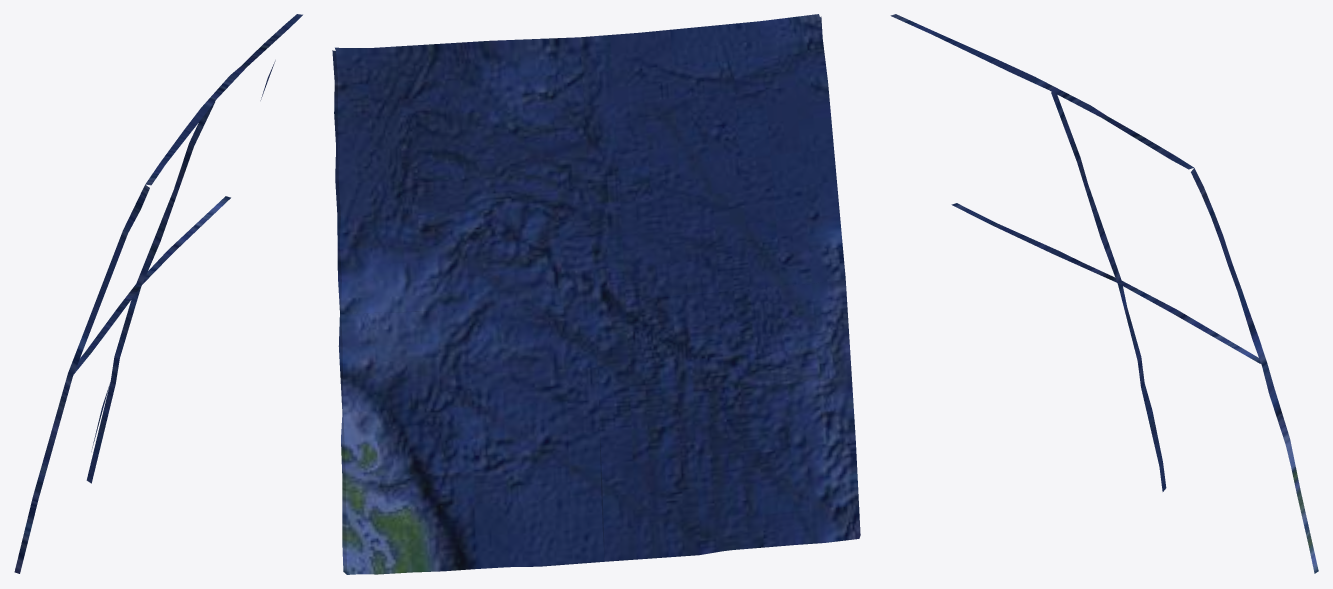
3 renders of one model, left to right at view 1: azimuth 30°, elevation 25°; view 2: azimuth 150°, elevation 25°; view 3: azimuth 270°, elevation 25°, orthographic. The views are drawn at different scales.
Bounding box in the file's own units: 1166693 × 1206394 × 1057305.
1 material, 1 textured.
